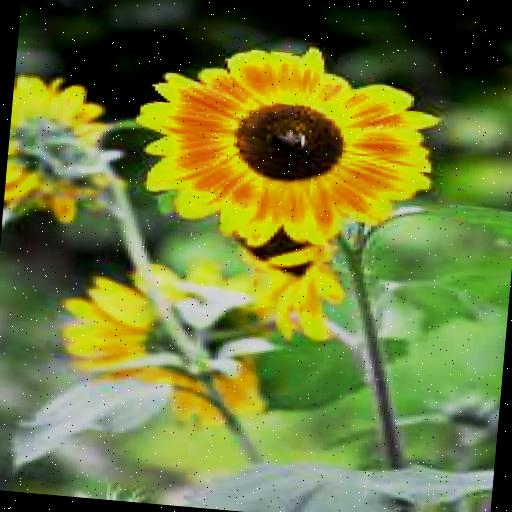sunflower: (130, 30, 444, 262)
